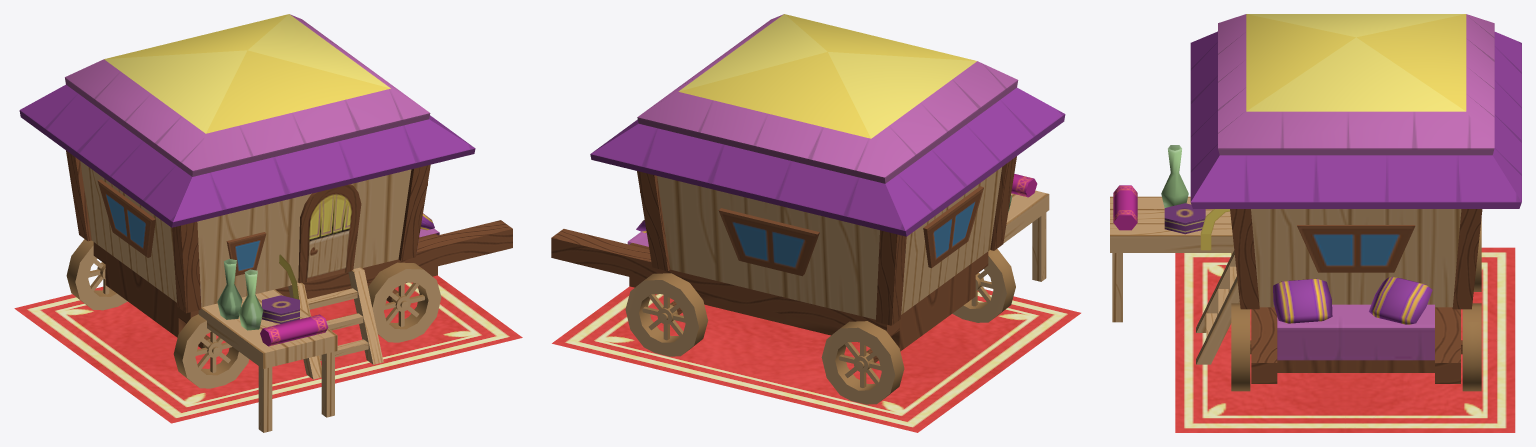
The model's file is building_Accessories_lv2.FBX.
3 views of the same model, side by side, from view 1: azimuth 30°, elevation 25°; view 2: azimuth 150°, elevation 25°; view 3: azimuth 270°, elevation 25° (orthographic). The views are drawn at different scales.
Parts seen in each view (by area): view 1: building_Accessories_roof_lv2, building_Accessories_etc01_lv2, building_Accessories_etc02_lv2, building_Accessories_lv2; view 2: building_Accessories_roof_lv2, building_Accessories_etc01_lv2, building_Accessories_etc02_lv2, building_Accessories_lv2; view 3: building_Accessories_roof_lv2, building_Accessories_etc01_lv2, building_Accessories_etc02_lv2, building_Accessories_lv2.
Part boxes in pixels (x1,y1,x2,y2): building_Accessories_roof_lv2: (19, 14, 475, 227); building_Accessories_etc01_lv2: (66, 150, 512, 432); building_Accessories_etc02_lv2: (14, 254, 522, 423); building_Accessories_lv2: (80, 161, 411, 307); building_Accessories_roof_lv2: (590, 14, 1065, 236); building_Accessories_etc01_lv2: (551, 156, 1049, 404); building_Accessories_etc02_lv2: (552, 174, 1080, 432); building_Accessories_lv2: (657, 167, 1001, 319); building_Accessories_roof_lv2: (1190, 14, 1521, 208); building_Accessories_etc01_lv2: (1110, 196, 1482, 391); building_Accessories_etc02_lv2: (1113, 145, 1515, 432); building_Accessories_lv2: (1251, 209, 1461, 307).
Size of the model in its own units: 440 by 309 by 386.
